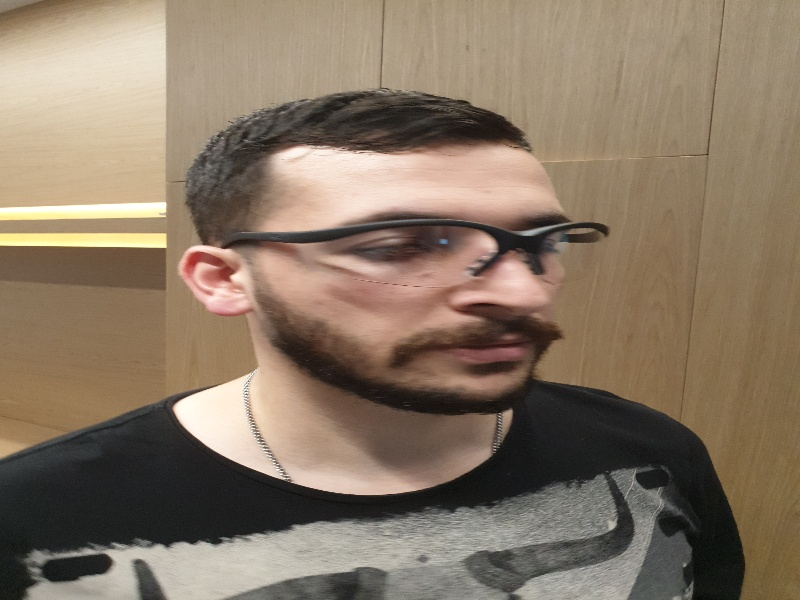Gozluk: (218, 218, 612, 288)
